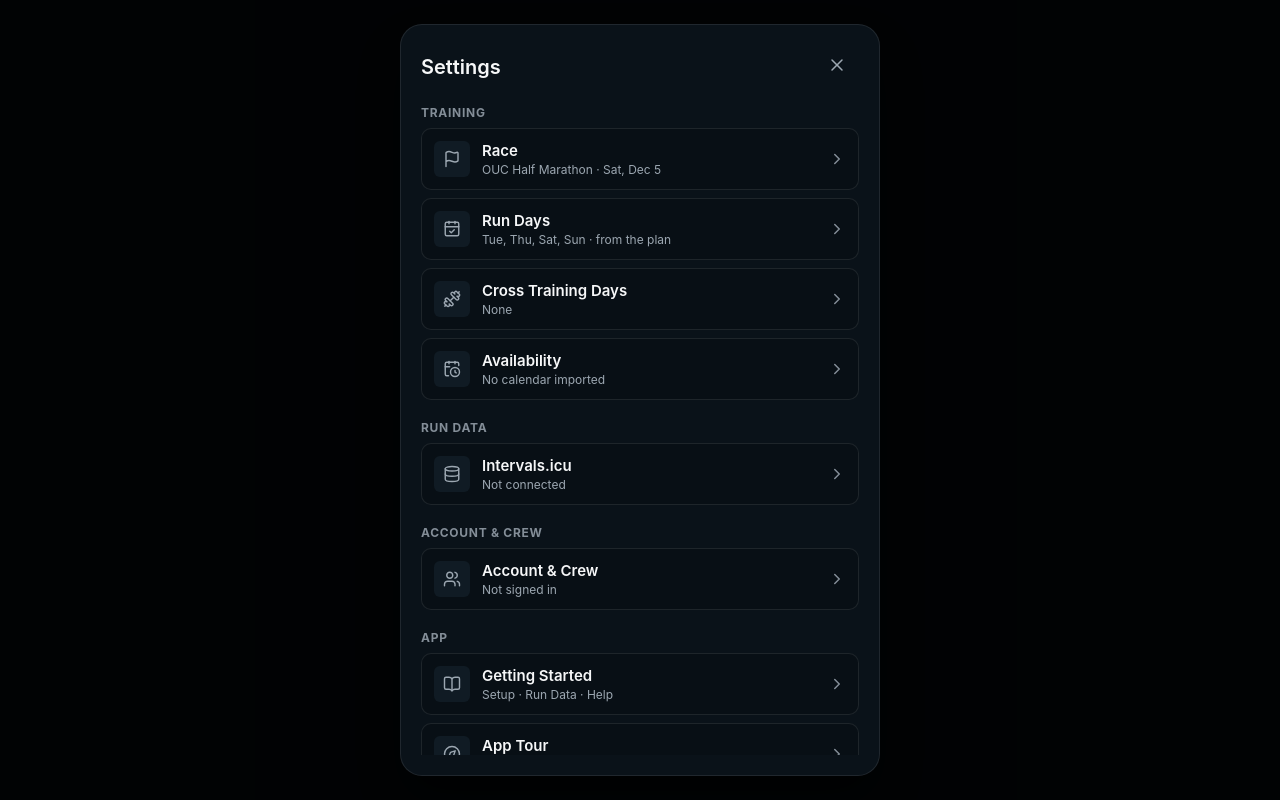
Scenario: setting up the race › opens on the plan's own race and says what a plan would look like
Click the button "Race OUC Half Marathon · Sat, Dec 5" at (640, 159), box [421, 128, 859, 190]
(page scrolled)
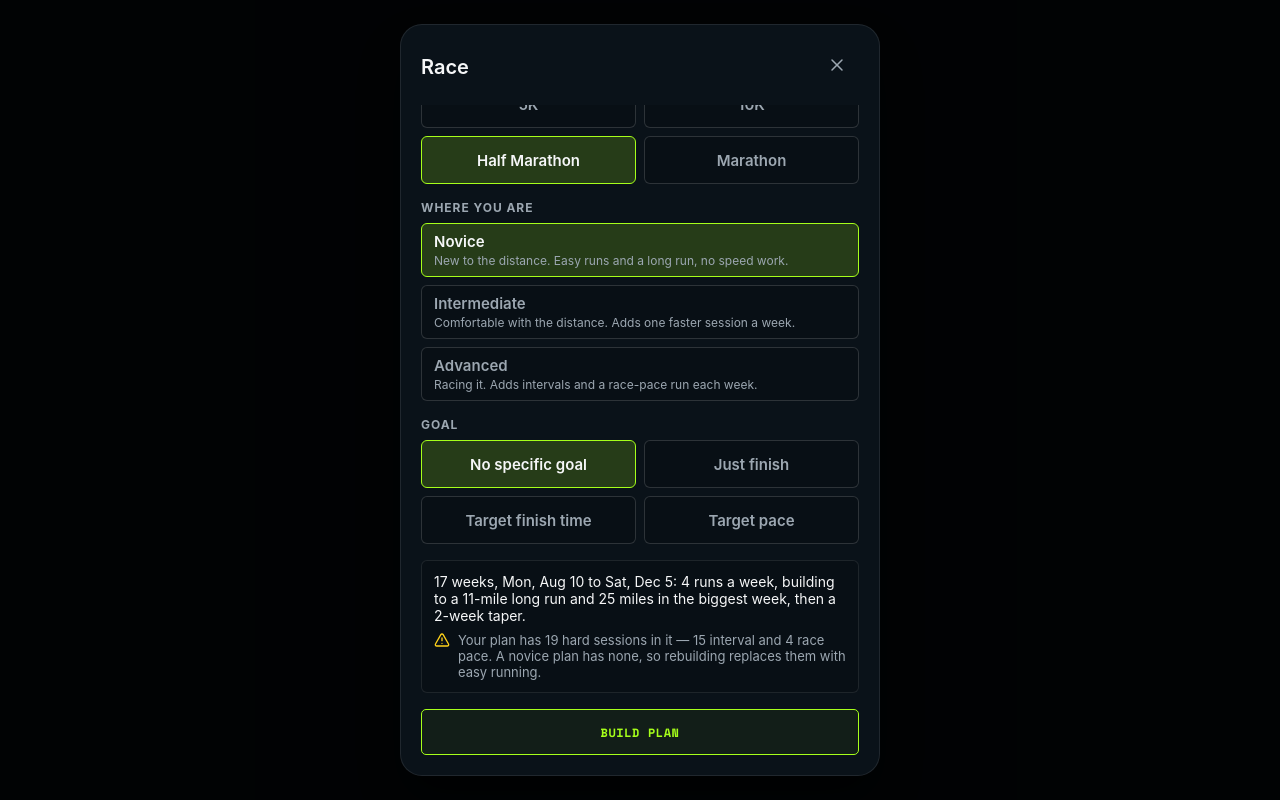
Result: the text "17 weeks, Mon, Aug 10 to Sat, Dec 5" is shown at [434, 573, 681, 590]
